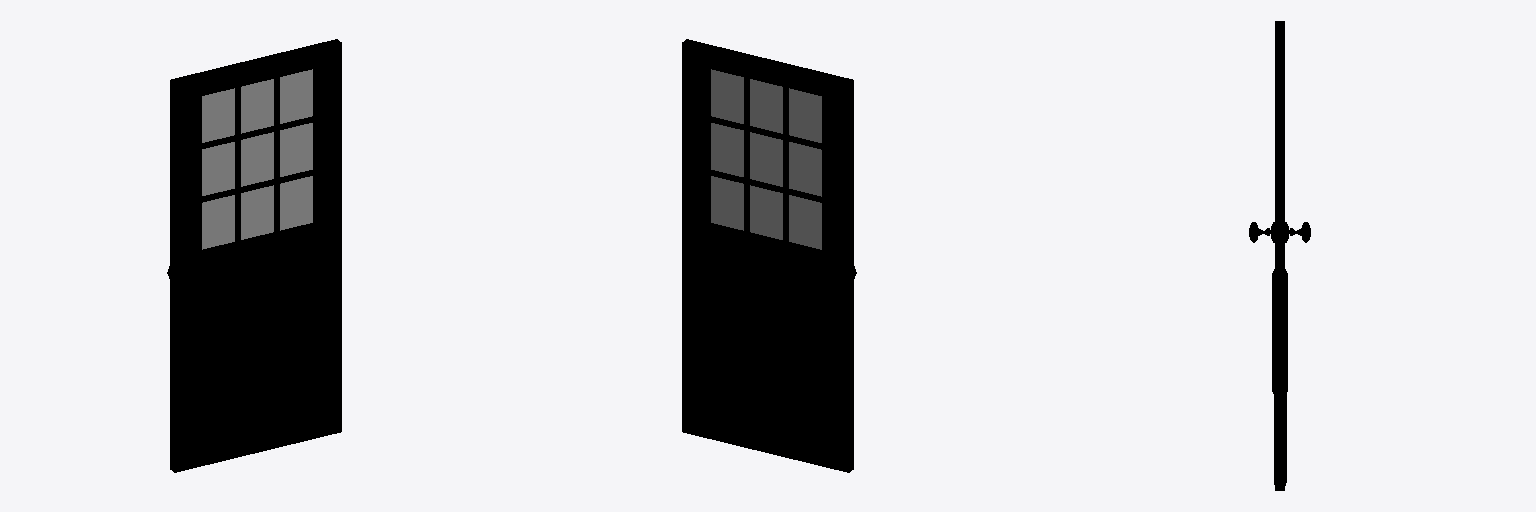
The model's file is door_OBJ.obj.
3 renders of one model, left to right at view 1: azimuth 30°, elevation 25°; view 2: azimuth 150°, elevation 25°; view 3: azimuth 270°, elevation 25°, orthographic.
Parts seen in each view (by area): view 1: doorUV nurbsCircle1; view 2: doorUV nurbsCircle1; view 3: doorUV nurbsCircle1.
Part boxes in pixels (x1,y1,x2,y2): doorUV nurbsCircle1: (167,39,341,472); doorUV nurbsCircle1: (682,39,856,472); doorUV nurbsCircle1: (1249,21,1310,490).
Bounding box in the file's own units: 90 × 200 × 29.